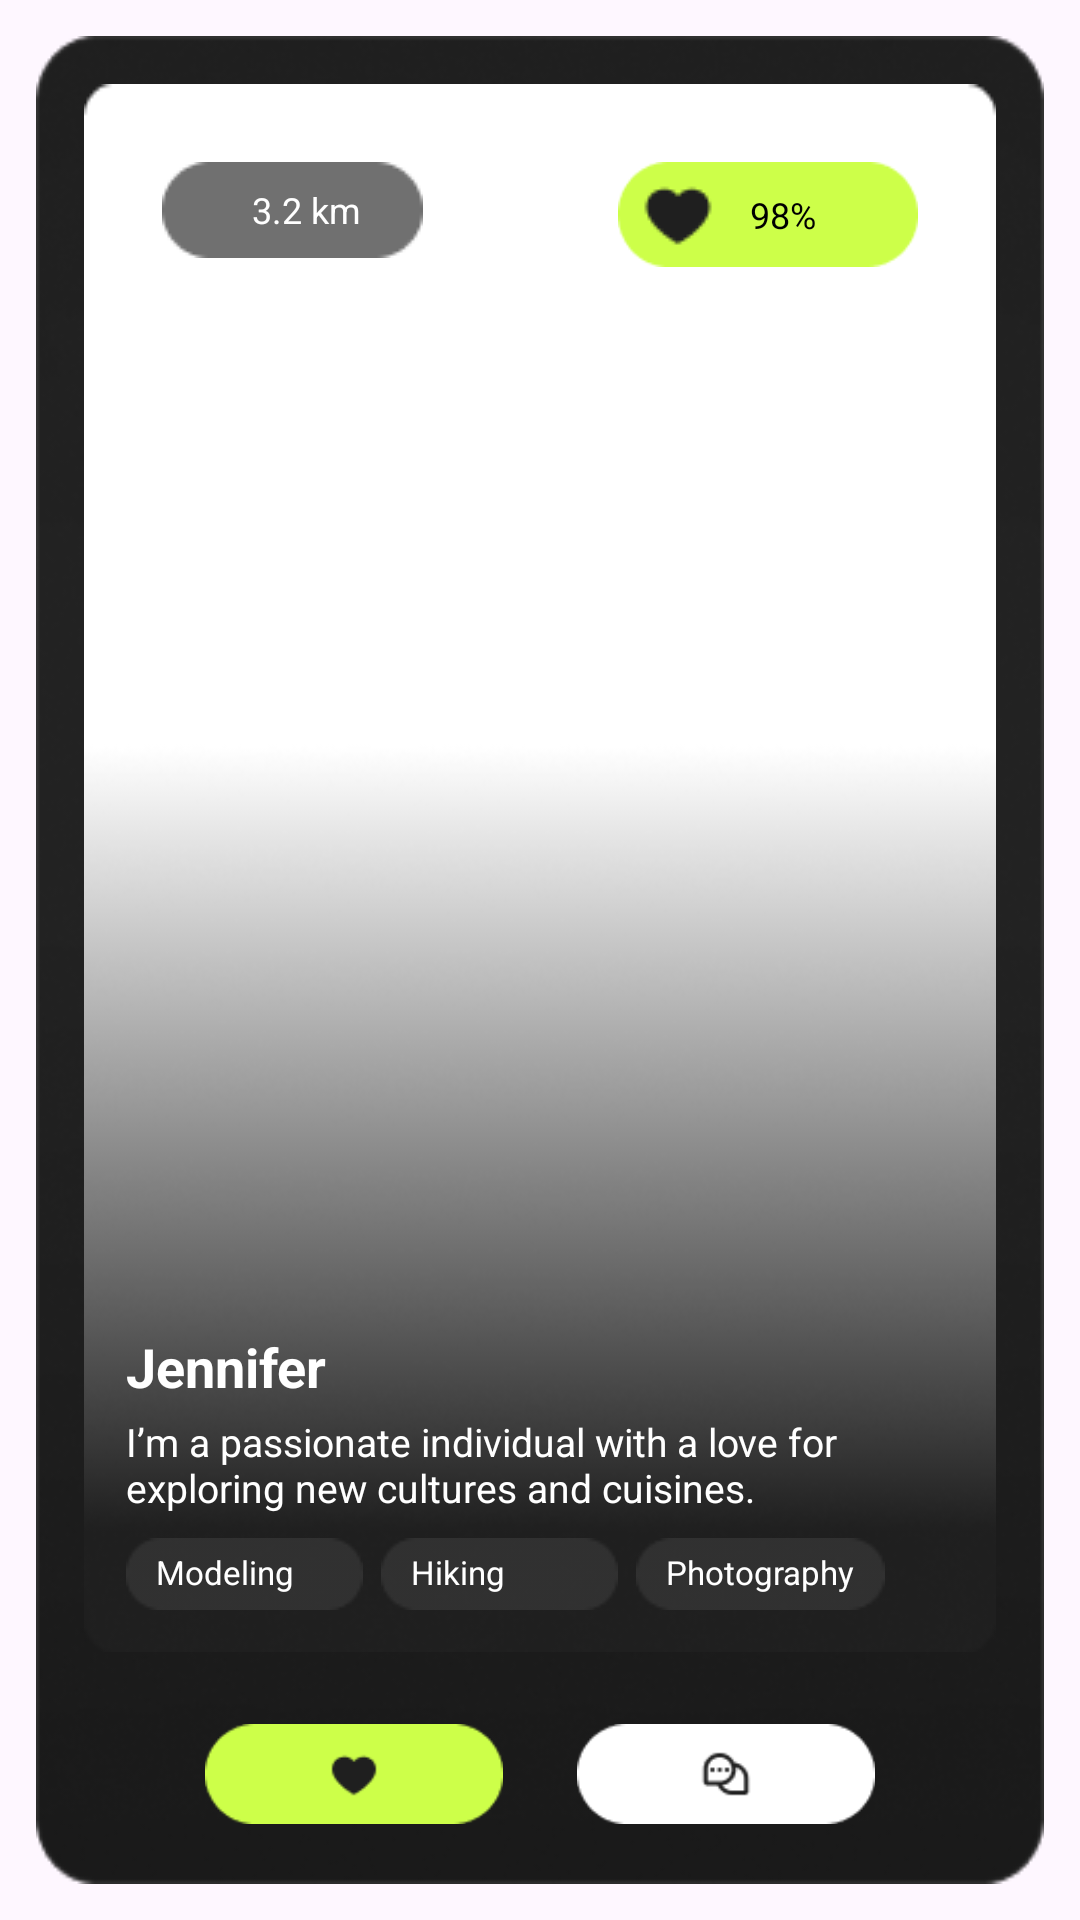

Named icons in this screenshot (1080px x 1920px) and their centers, [x,y]:
Chat Button: [726,1774]
heart: [678,216]
Like Button: [354,1774]
